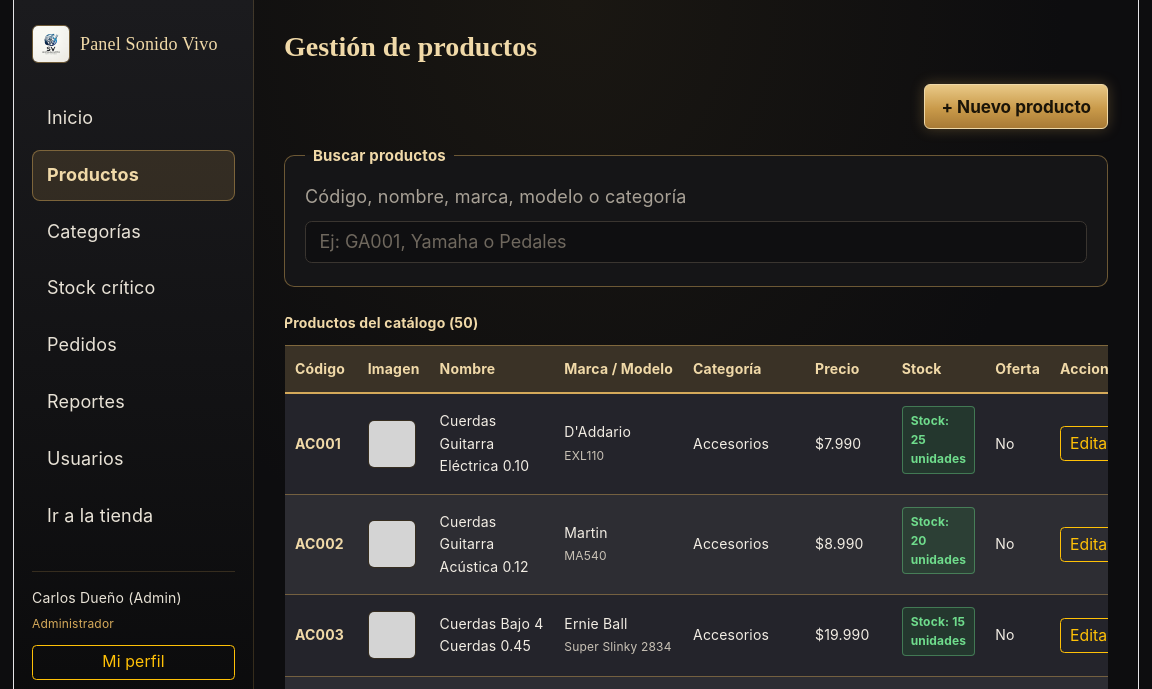
Test: Página AdminProductos › el buscador filtra la tabla
In the search field labelled "Código, nombre, marca, modelo o categoría": (696, 242) [305, 221, 1087, 263], type "GA001"
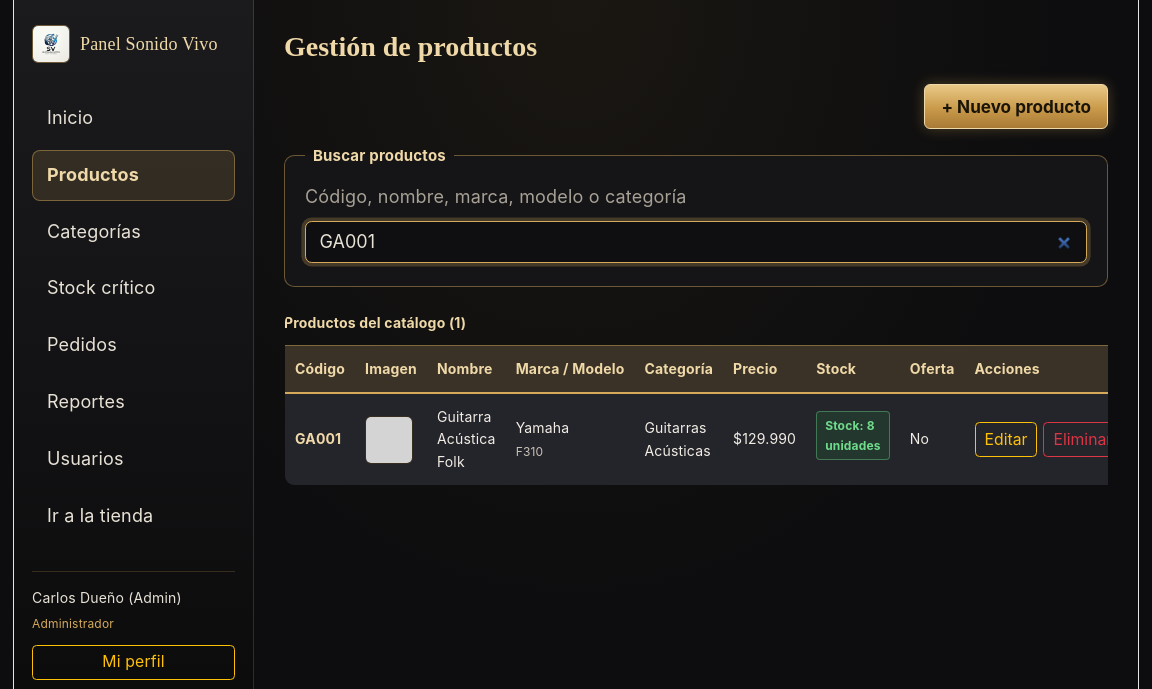
Expected: the text "Productos del catálogo (1)" is shown, [284, 314, 466, 331]
